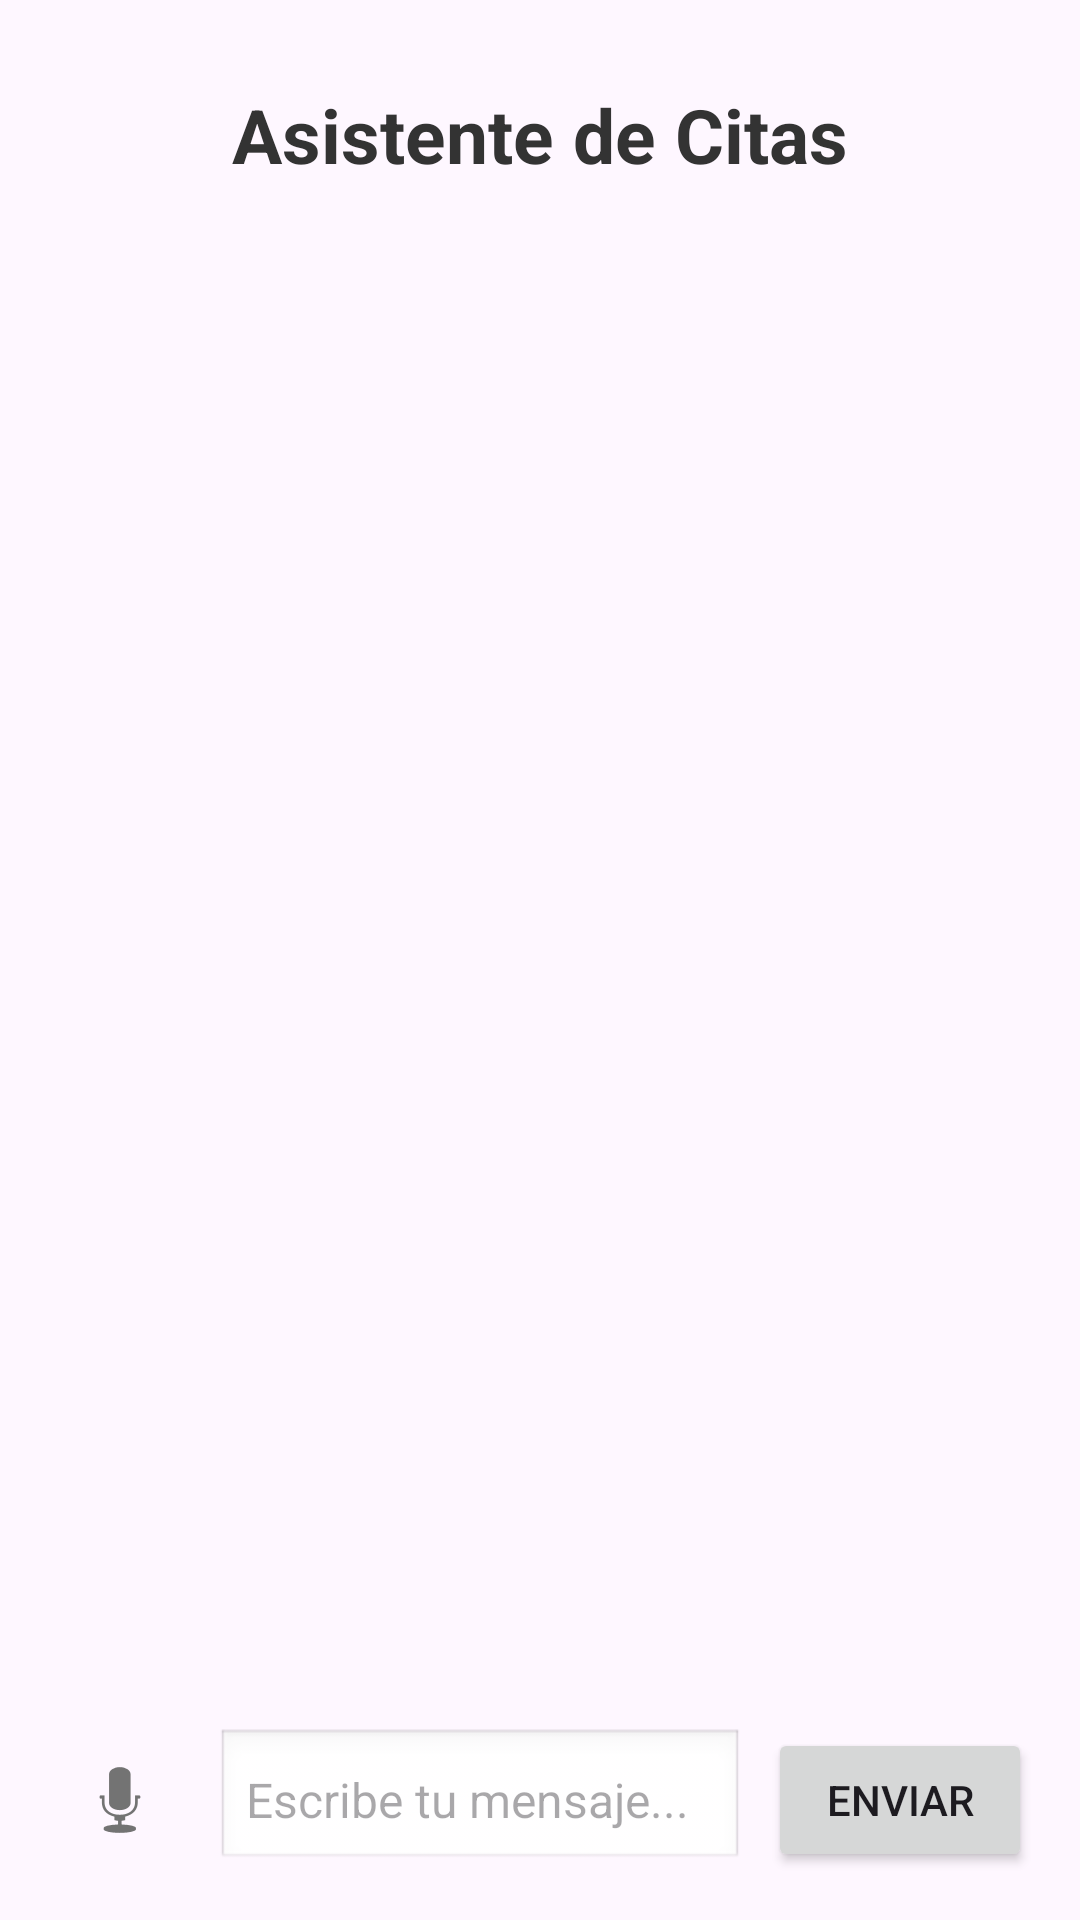

Screen size 1080 × 1920. Icon name, then its box in pixels as [x1,y1,x2,y2]:
Hablar: [99,1767,141,1833]
